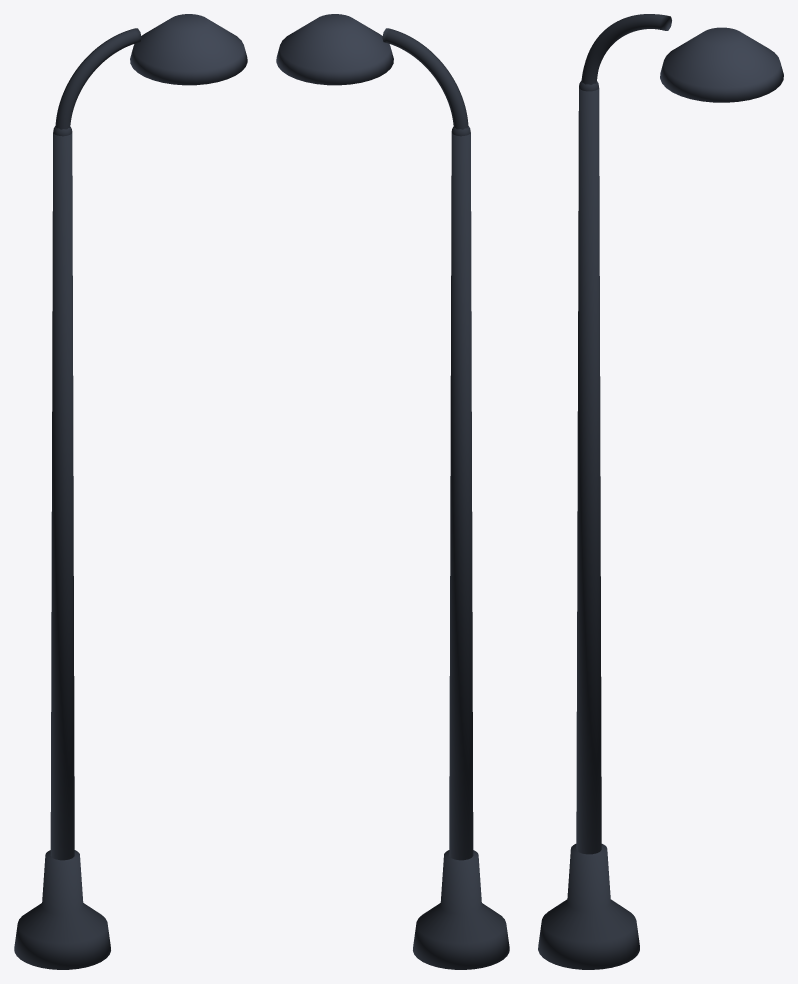
The model's file is prop_street_lamp.fbx.
3 views of the same model, side by side, from view 1: azimuth 30°, elevation 25°; view 2: azimuth 150°, elevation 25°; view 3: azimuth 330°, elevation 25° (orthographic). The views are drawn at different scales.
Parts seen in each view (by area): view 1: prop_street_lamp; view 2: prop_street_lamp; view 3: prop_street_lamp.
Boxes of the visible parts, bbox=[...] form: prop_street_lamp: bbox=[14, 14, 247, 969]; prop_street_lamp: bbox=[276, 14, 509, 969]; prop_street_lamp: bbox=[538, 14, 783, 969].
Bounding box in the file's own units: 0.73 × 2.87 × 0.34.
